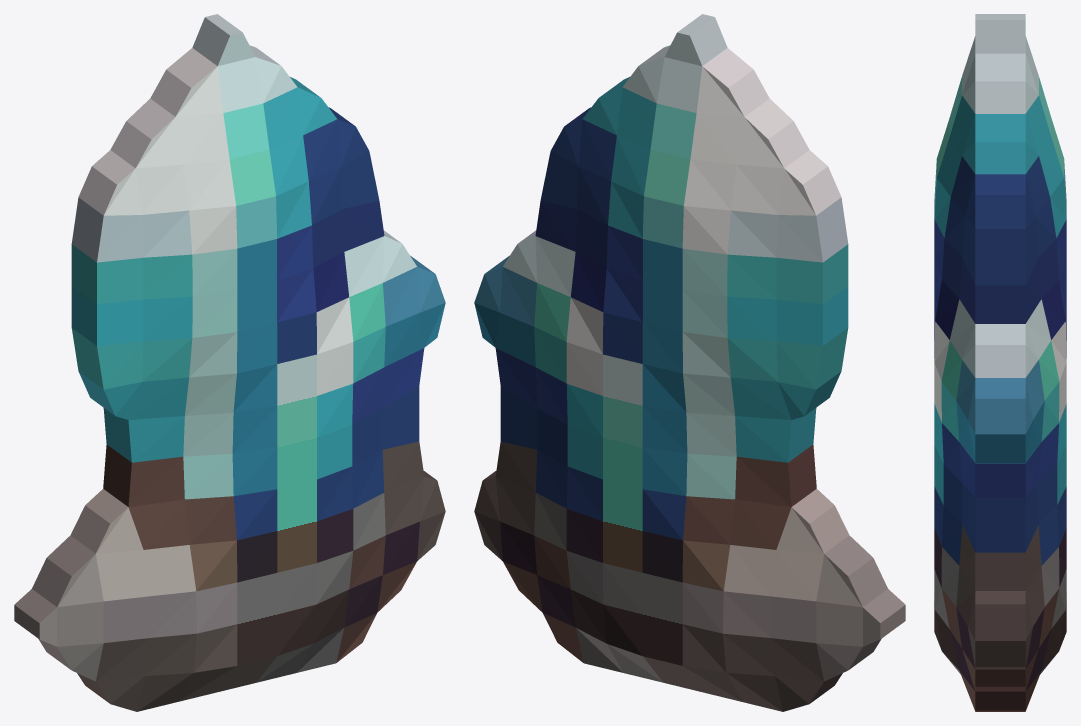
The model's file is crystal_cluster.glb.
The picture shows the model from 3 angles, left to right: view 1: azimuth 30°, elevation 25°; view 2: azimuth 150°, elevation 25°; view 3: azimuth 270°, elevation 25°; orthographic projection.
Parts seen in each view (by area): view 1: crystal_cluster; view 2: crystal_cluster; view 3: crystal_cluster.
Part boxes in pixels (left/top/right/bottom): crystal_cluster: left=14, top=14, right=445, bottom=711; crystal_cluster: left=474, top=14, right=905, bottom=711; crystal_cluster: left=934, top=14, right=1066, bottom=711.
Bounding box in the file's own units: 0.6503 × 1 × 0.1852.
1 material, 1 textured.
